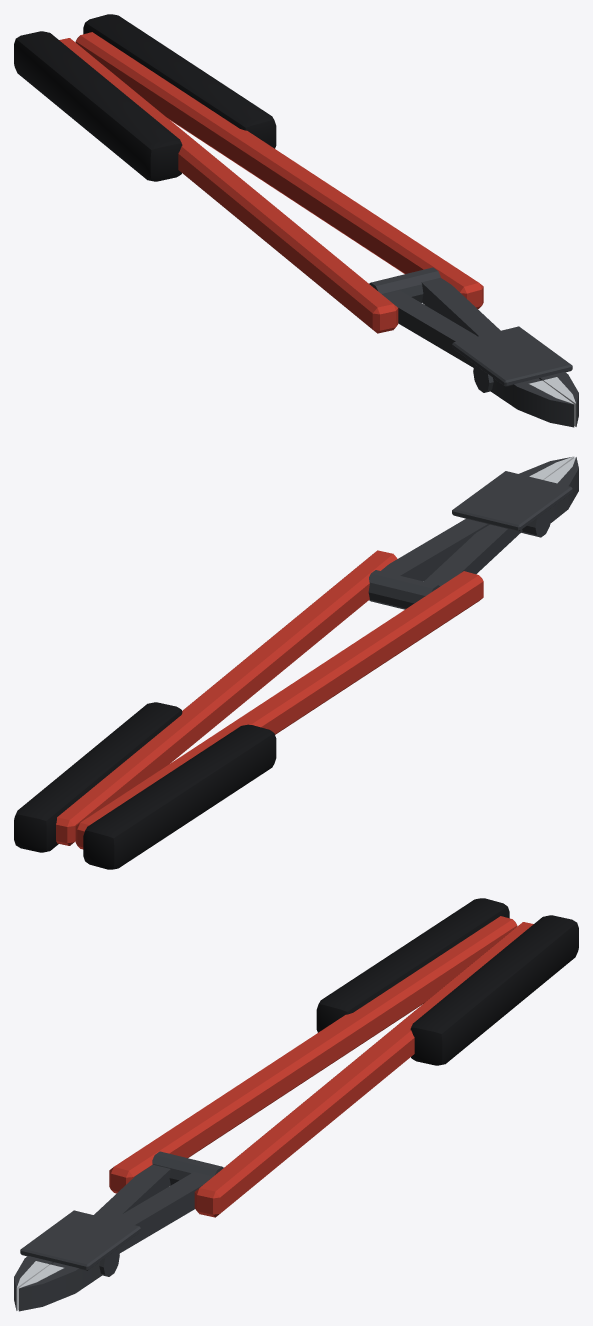
The model's file is bolt_cutters.glb.
3 renders of one model, top to bottom at view 1: azimuth 30°, elevation 25°; view 2: azimuth 150°, elevation 25°; view 3: azimuth 330°, elevation 25°, orthographic.
Visible parts, largest first — view 1: bolt_cutters; view 2: bolt_cutters; view 3: bolt_cutters.
Boxes of the visible parts, box(x1,y1,x2,y2) form: bolt_cutters: box(14, 14, 578, 427); bolt_cutters: box(14, 456, 578, 869); bolt_cutters: box(14, 898, 578, 1311).
Size of the model in its own units: 0.0881 by 0.0253 by 0.6.
